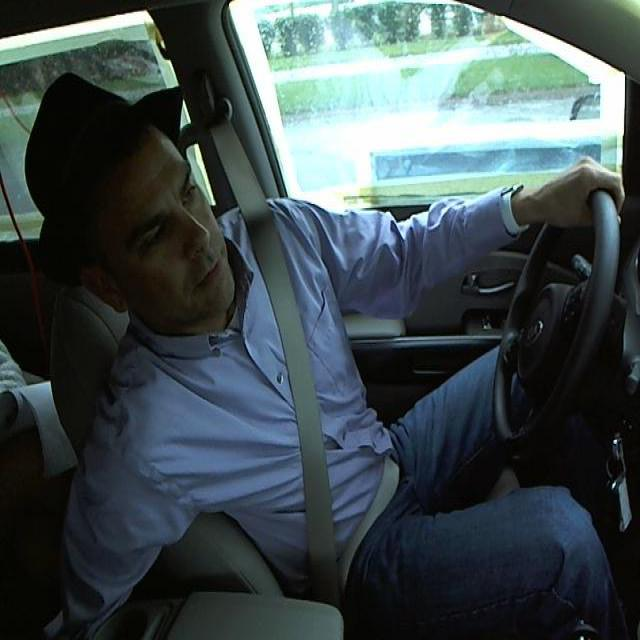seatbelt: (234, 224, 394, 592)
